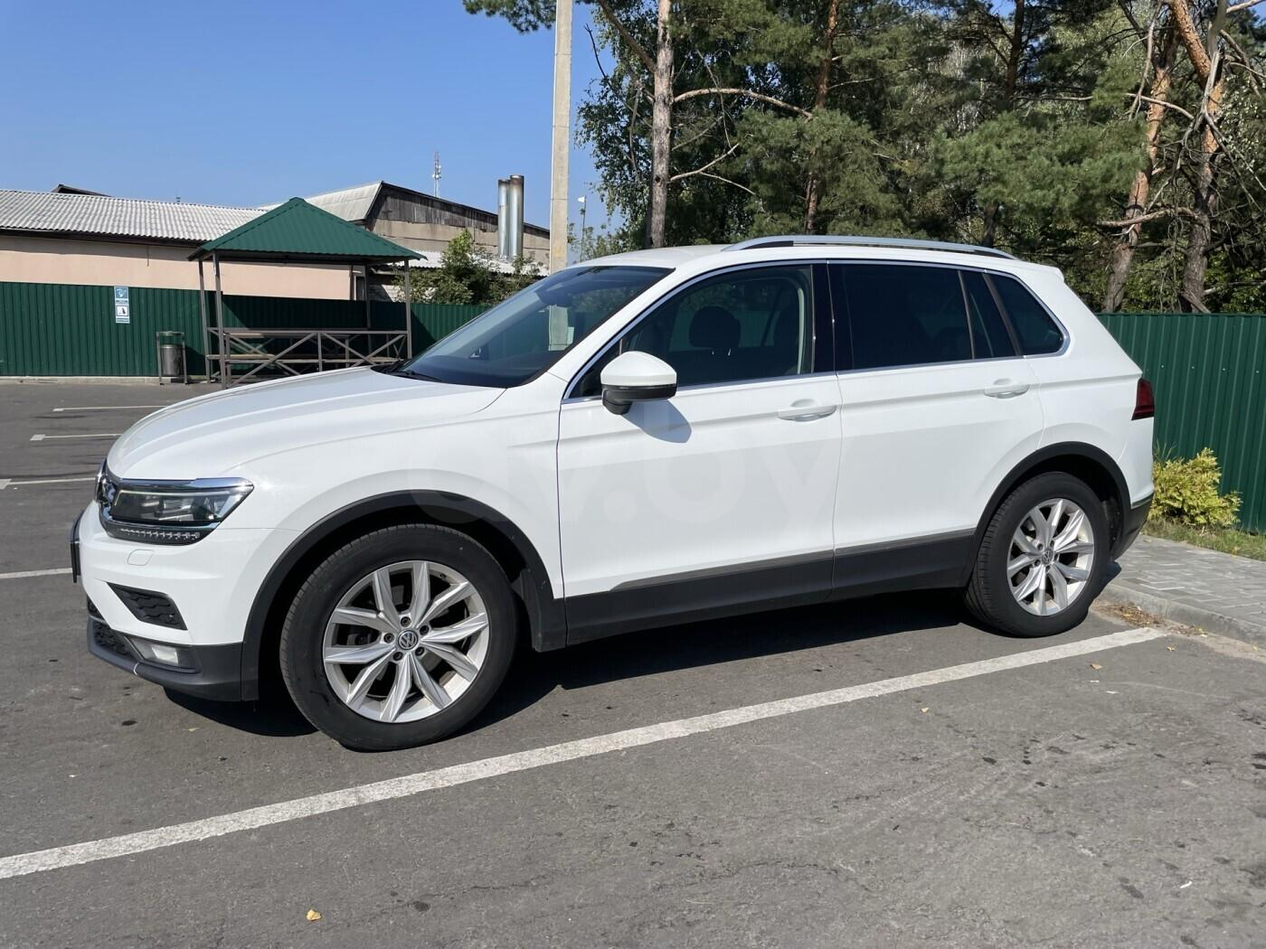Tiguan_2016-2021: (59, 232, 1169, 755)
